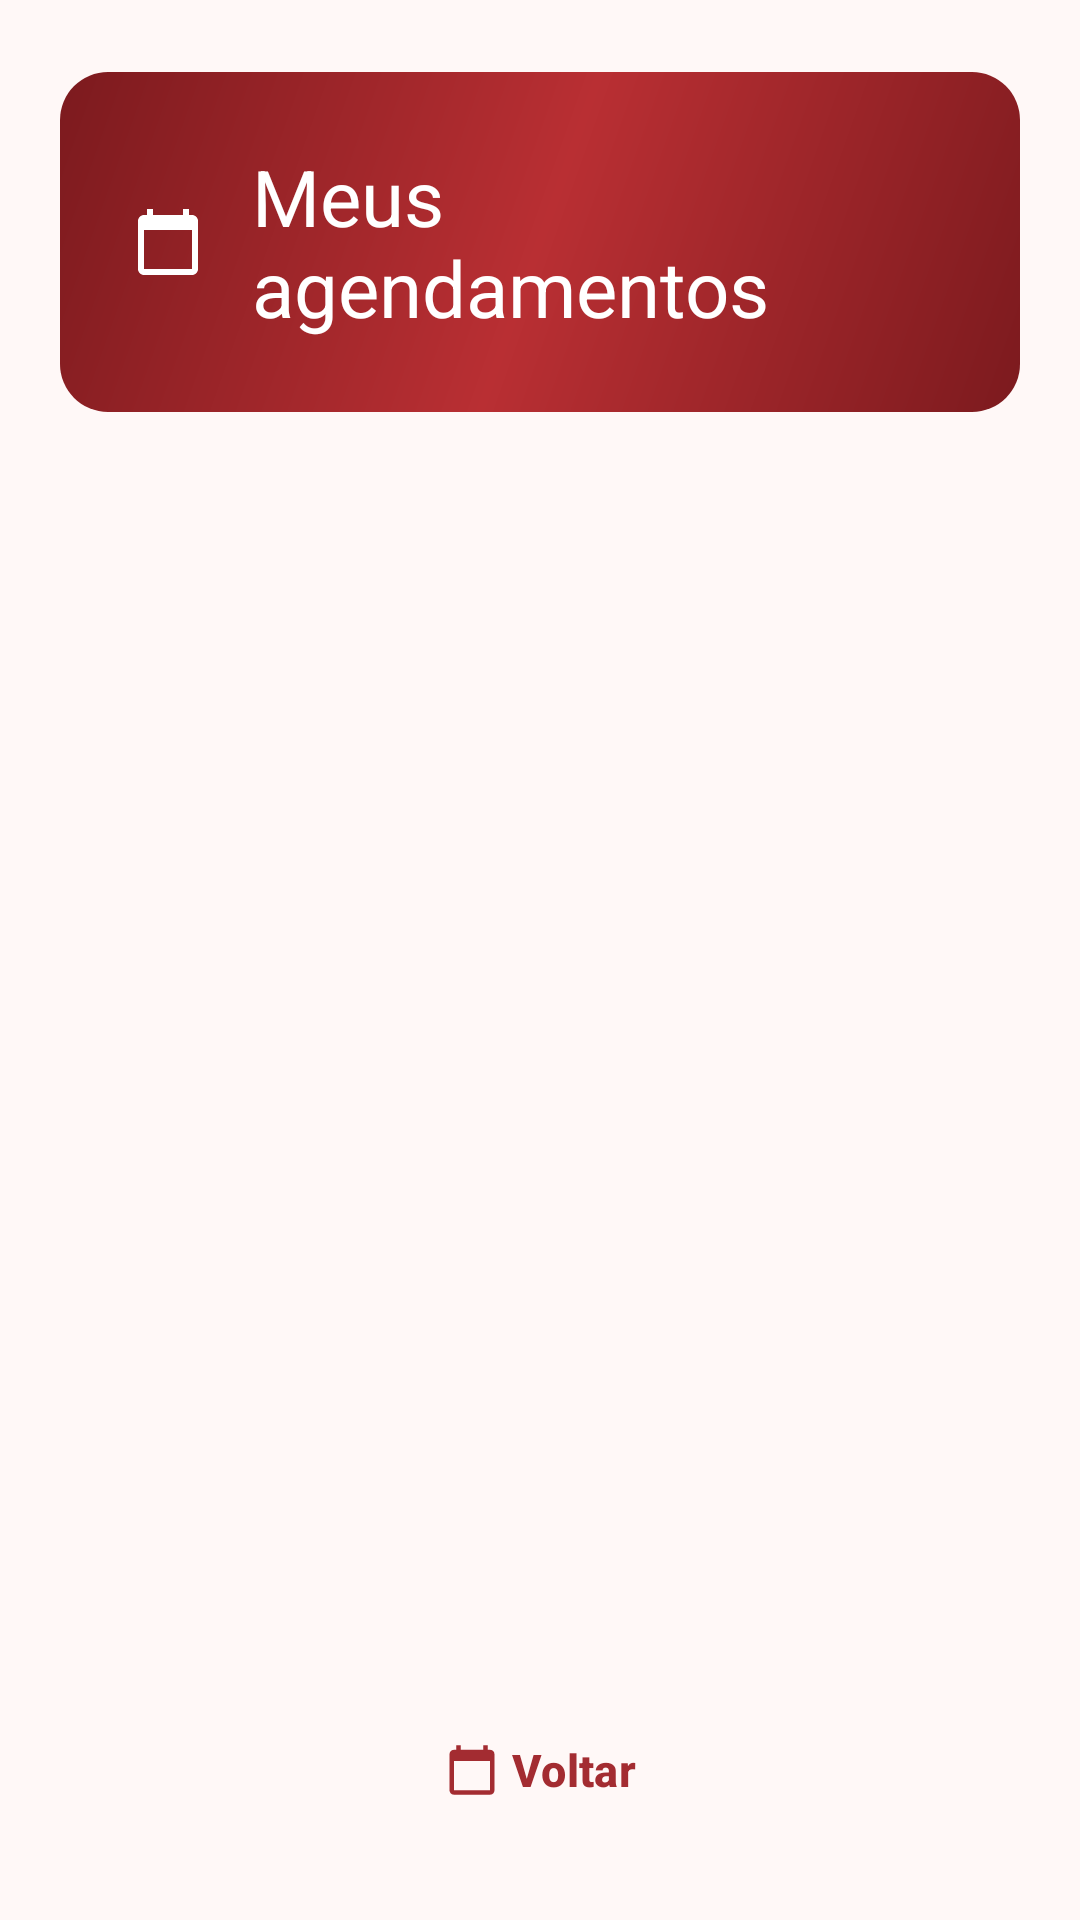

Icons on this 1080 × 1920 Android screen, each with its box as Rect(x1, y1, x2, y2):
calendar: Rect(138, 209, 198, 275)
